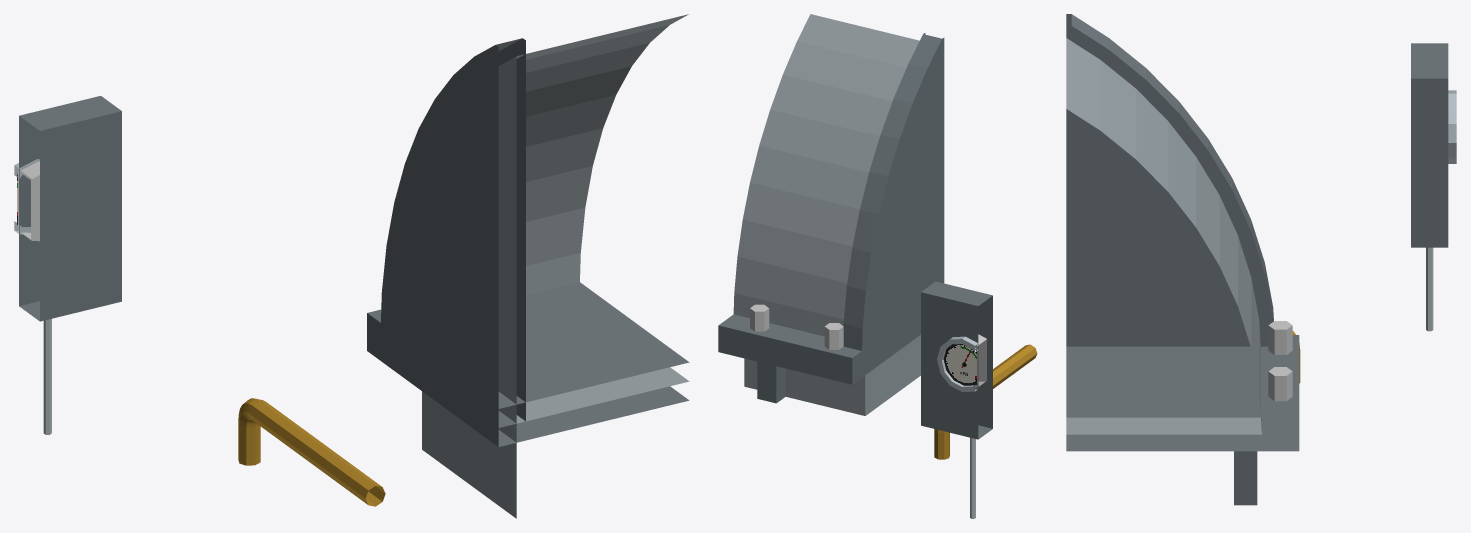
File: cell_32.obj
3 views of the same model, side by side, from view 1: azimuth 30°, elevation 25°; view 2: azimuth 150°, elevation 25°; view 3: azimuth 270°, elevation 25° (orthographic). The views are drawn at different scales.
Size of the model in its own units: 1 by 1 by 0.838.
